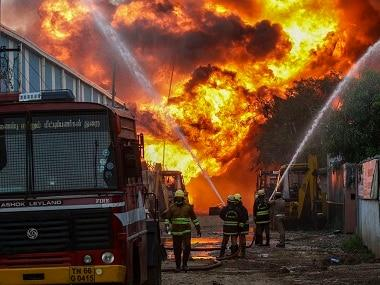Fire-engine: (0, 90, 164, 285)
